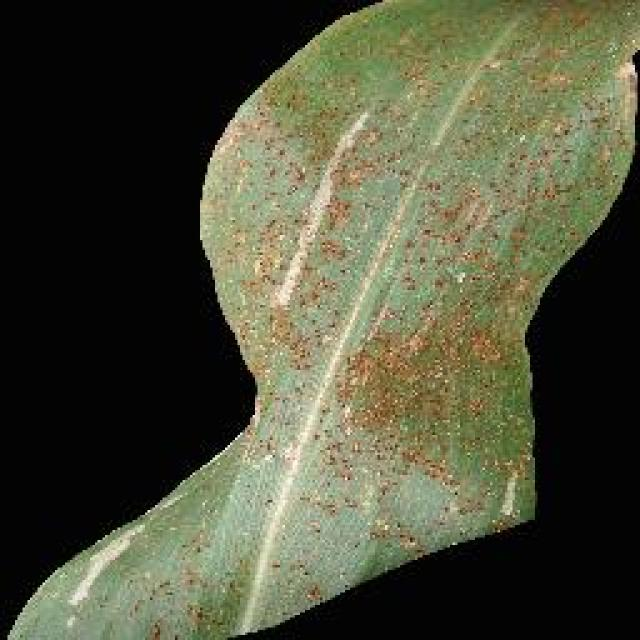Corn Common Rust: (178, 60, 567, 640)
